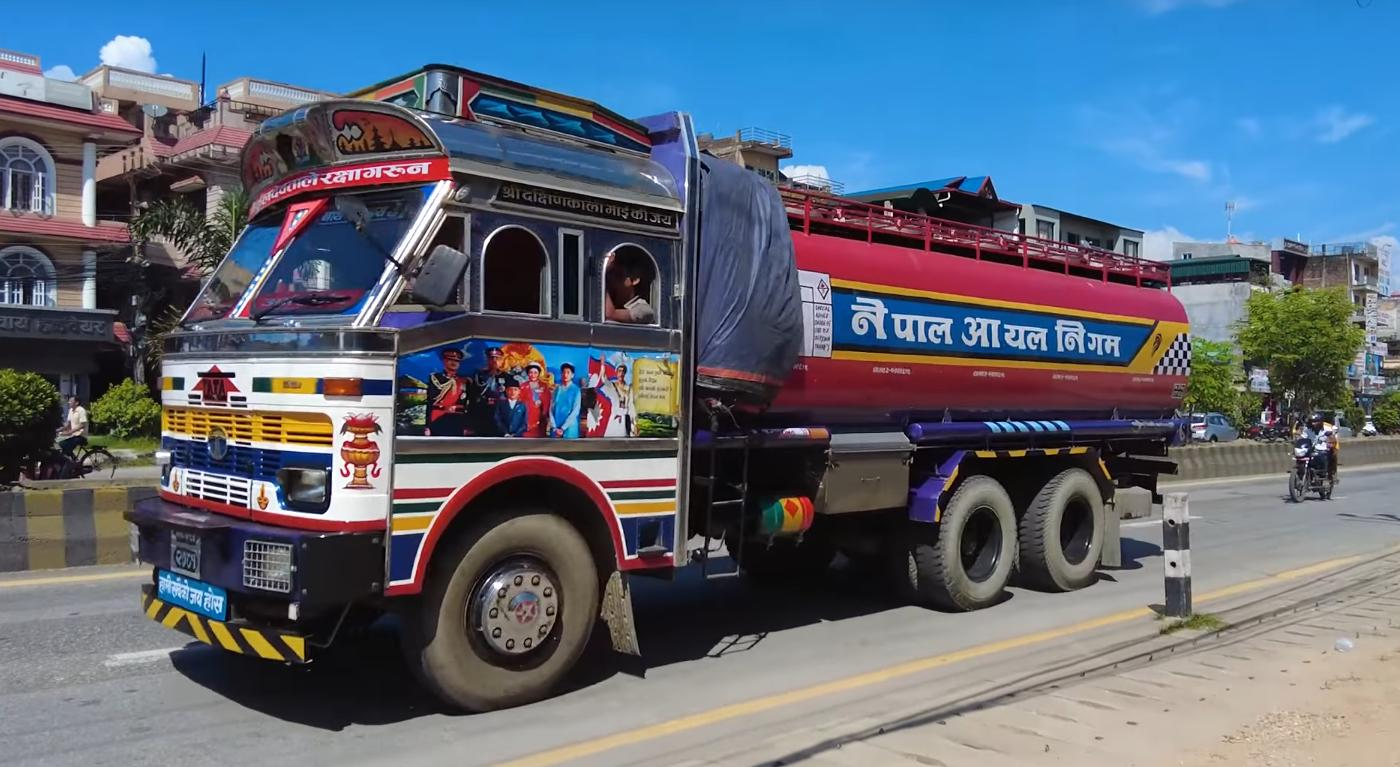bike: (1283, 432, 1341, 504)
car: (1188, 406, 1240, 447)
truck: (121, 62, 1193, 714)
